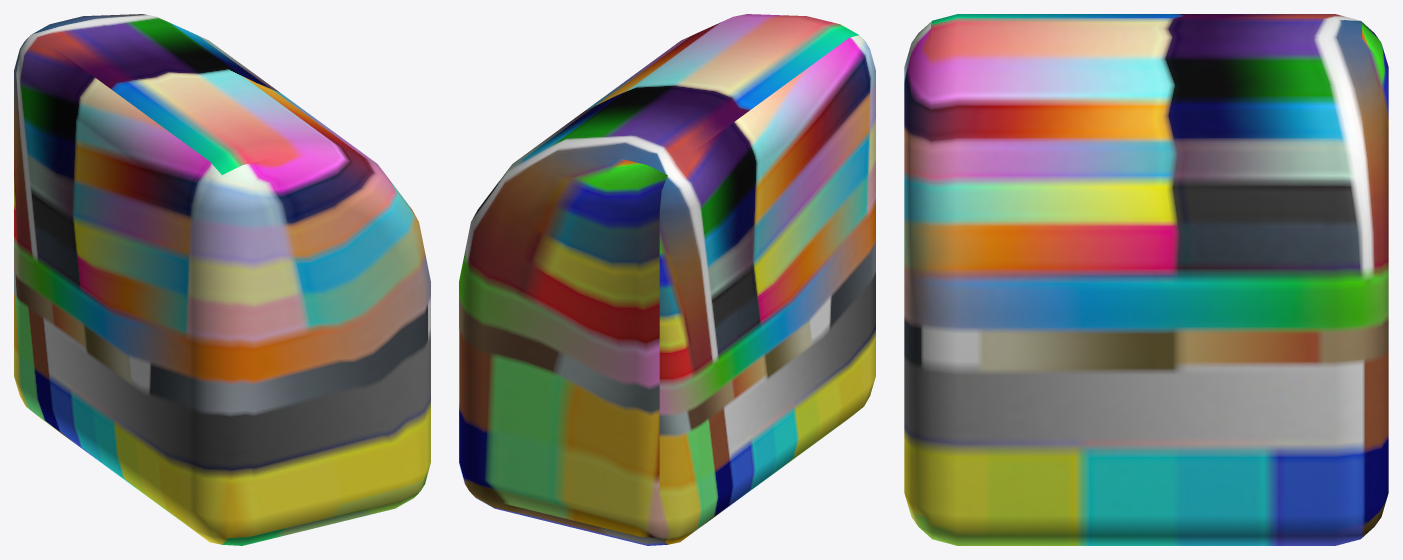
File: SmoothTringle.fbx
The picture shows the model from 3 angles, left to right: view 1: azimuth 30°, elevation 25°; view 2: azimuth 150°, elevation 25°; view 3: azimuth 270°, elevation 25°; orthographic projection. The views are drawn at different scales.
Parts seen in each view (by area): view 1: Cube.022; view 2: Cube.022; view 3: Cube.022.
Boxes of the visible parts, x1,y1,x2,y2 form: Cube.022: [14, 14, 430, 545]; Cube.022: [459, 14, 875, 545]; Cube.022: [904, 14, 1388, 545].
Size of the model in its own units: 1.26 by 2 by 2.
